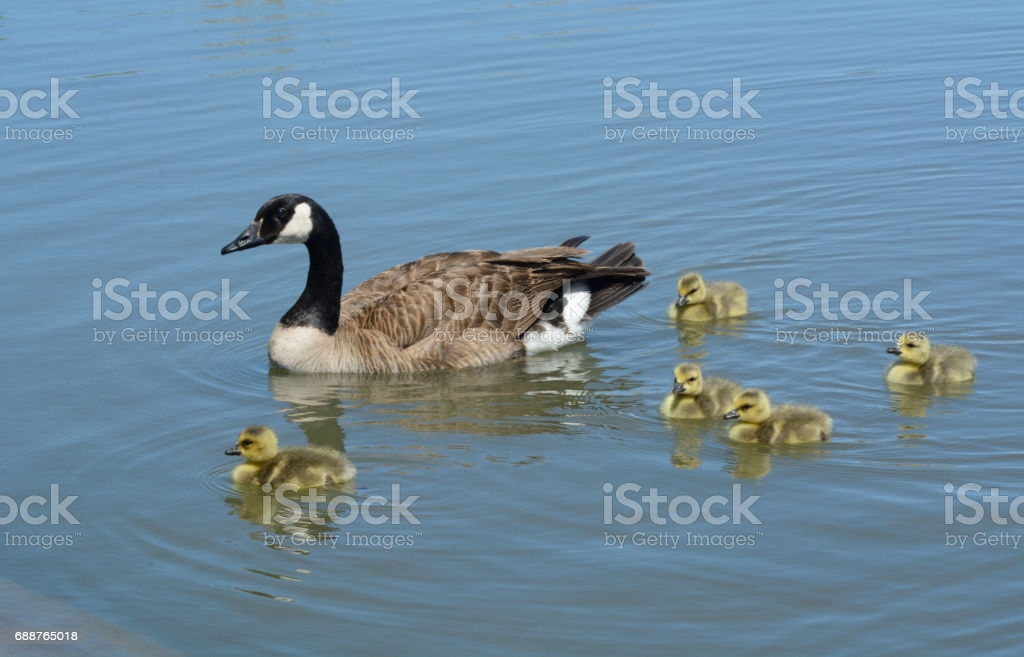goose: (213, 190, 654, 379)
